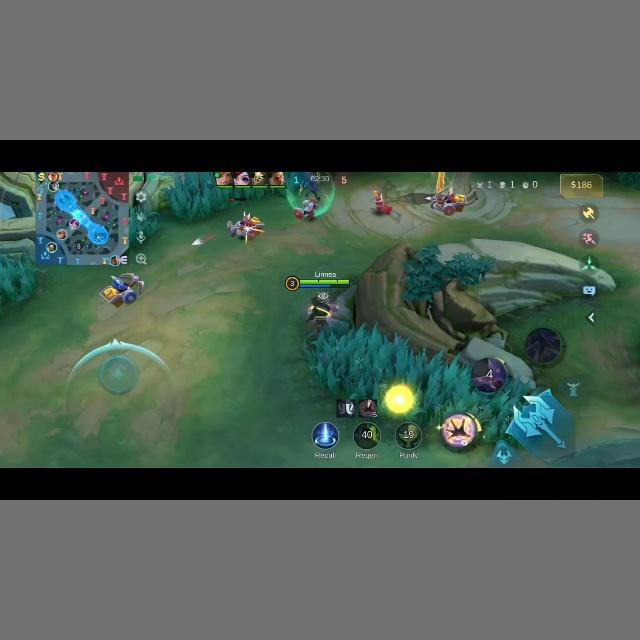hero_enemy: (298, 171, 323, 202)
hero_self: (300, 294, 340, 346)
hp_enemy: (227, 195, 248, 204)
minion_ally: (97, 264, 150, 310)
minion_enemy: (225, 211, 265, 243), (429, 190, 472, 216), (369, 190, 393, 215), (292, 197, 318, 220)
